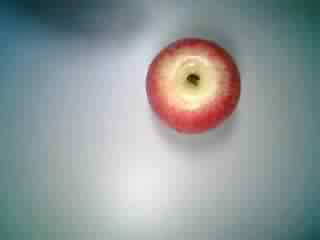apple: (139, 34, 243, 138)
